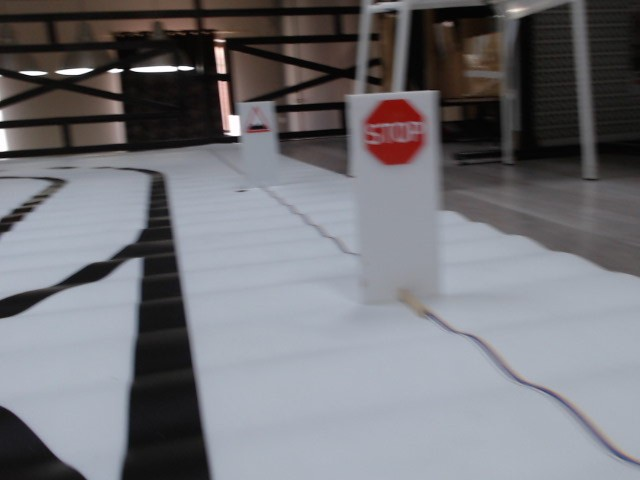Nerov: (241, 105, 273, 135)
Stop: (362, 97, 427, 167)
